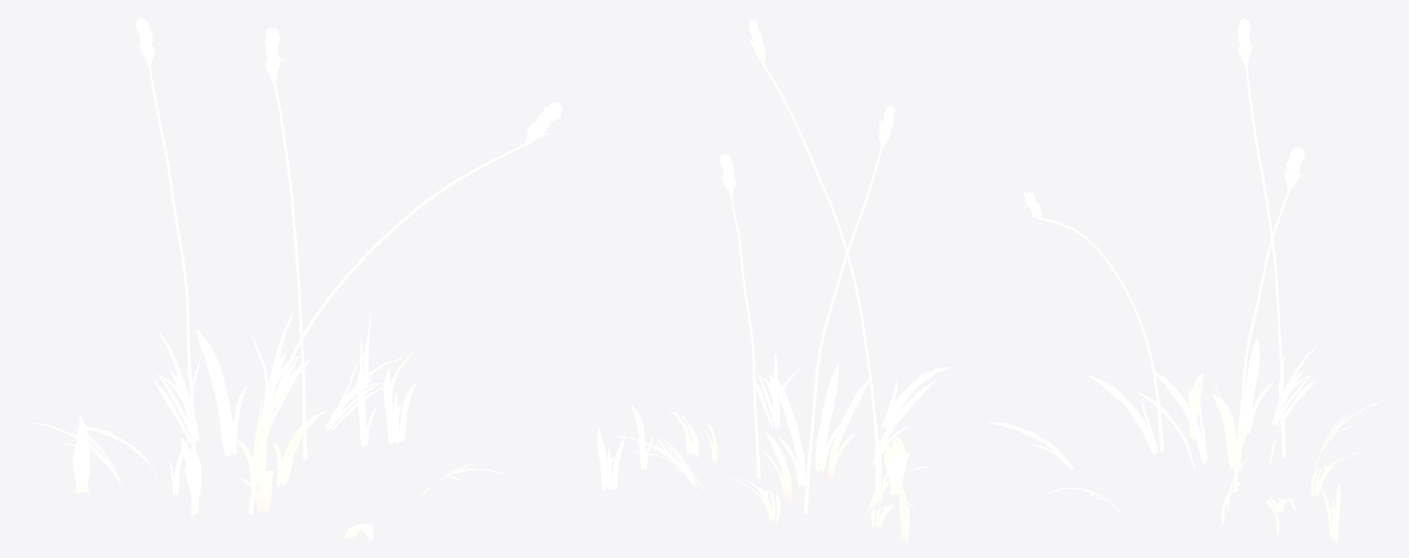
3 renders of one model, left to right at view 1: azimuth 30°, elevation 25°; view 2: azimuth 150°, elevation 25°; view 3: azimuth 270°, elevation 25°, orthographic. The views are drawn at different scales.
Parts seen in each view (by area): view 1: SM_Sedge_04_LOD0; view 2: SM_Sedge_04_LOD0; view 3: SM_Sedge_04_LOD0.
Part boxes in pixels (left/top/right/bottom): SM_Sedge_04_LOD0: left=26, top=18, right=562, bottom=540; SM_Sedge_04_LOD0: left=597, top=19, right=949, bottom=542; SM_Sedge_04_LOD0: left=988, top=18, right=1384, bottom=542.
Size of the model in its own units: 0.7662 by 0.9342 by 0.8347.
Materials: 1 (1 with a texture image).
